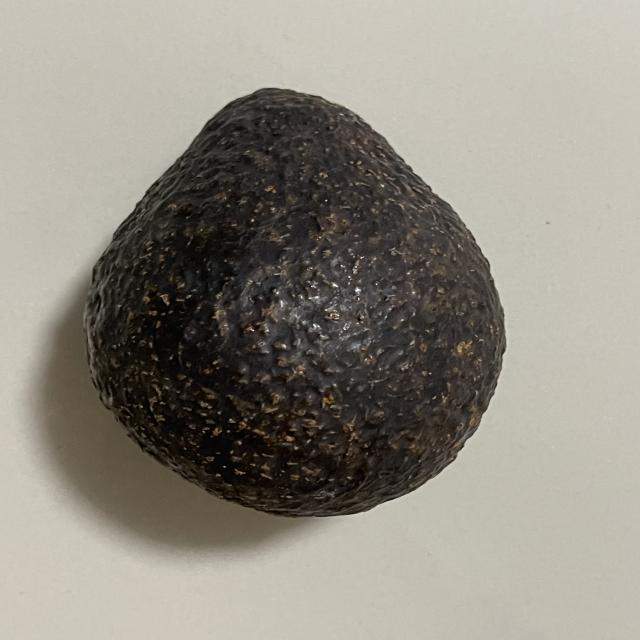Level3: (74, 78, 514, 524)
